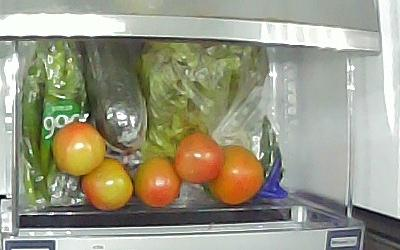tomato: (206, 143, 264, 205), (51, 120, 105, 176), (79, 156, 134, 210), (173, 130, 223, 183), (131, 155, 181, 207)
